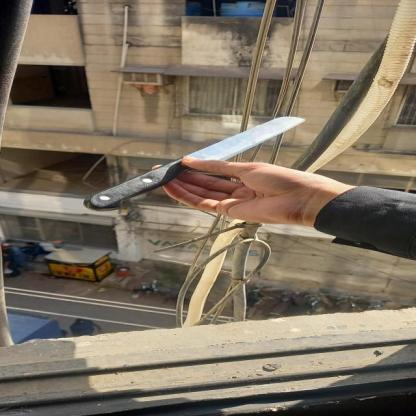Knife: (85, 114, 317, 213)
